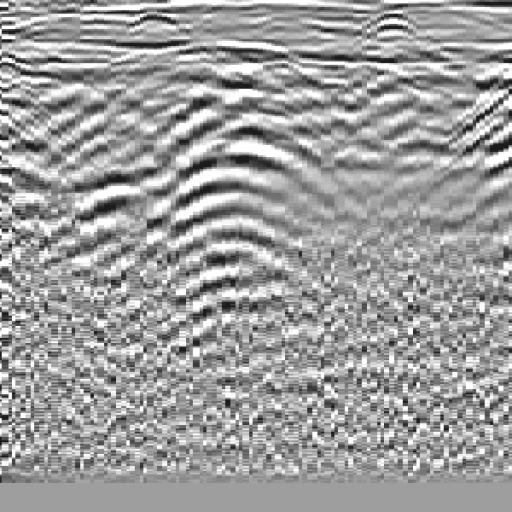metalic: (49, 50, 184, 300)
non-metallic: (160, 43, 323, 346)
nonmetalic: (388, 42, 512, 274)
